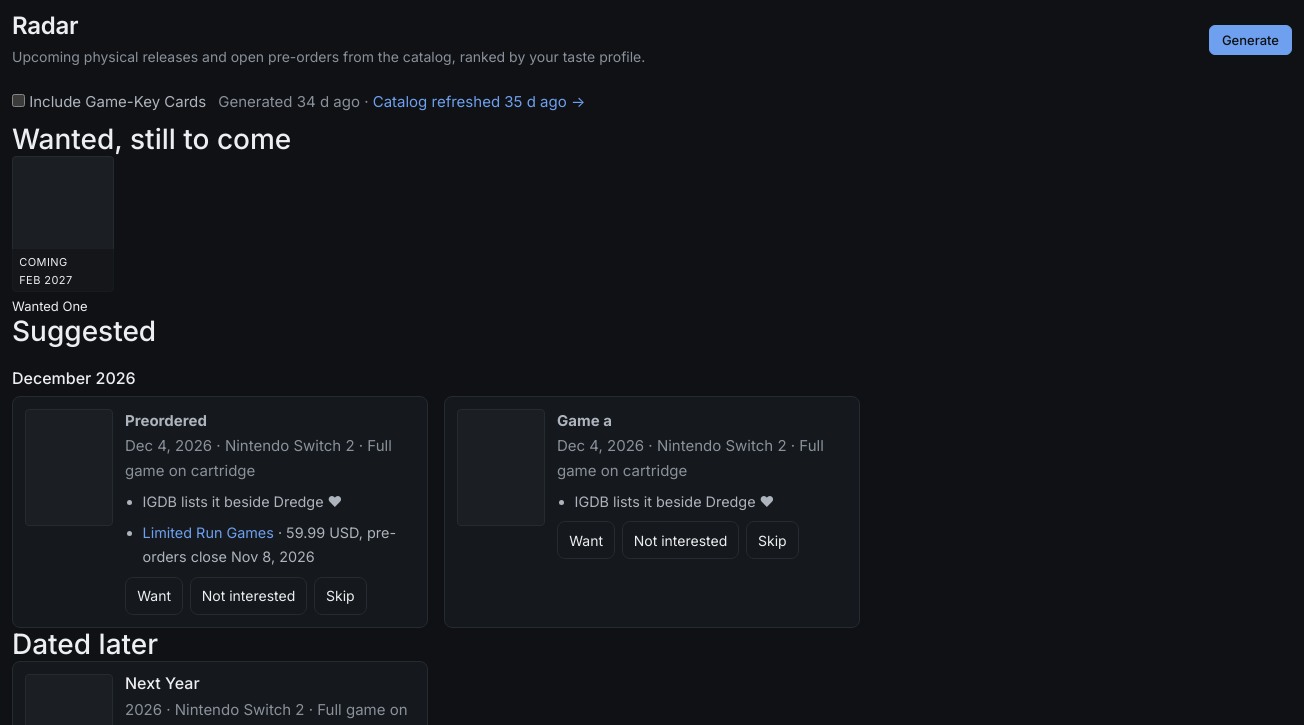
AdminRadar › drops a card another tab already answered
This screenshot has width=1304, height=725.
Expected: the heading "Game a" is shown, [557,411,612,430]
Click the button with aria-label "Skip Game a": coordinates (772, 540) [746,522,799,559]
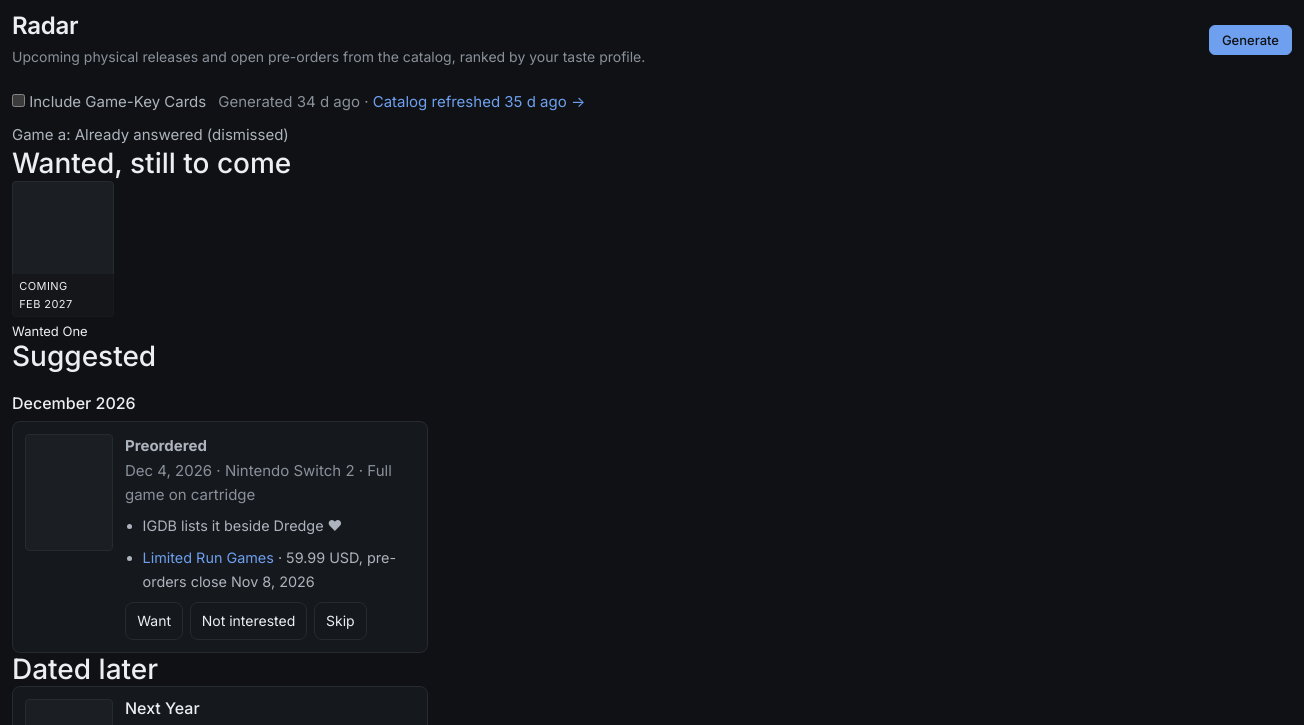
Now the message reads "Game a: Already answered (dismissed)", box [12,125,289,144]
